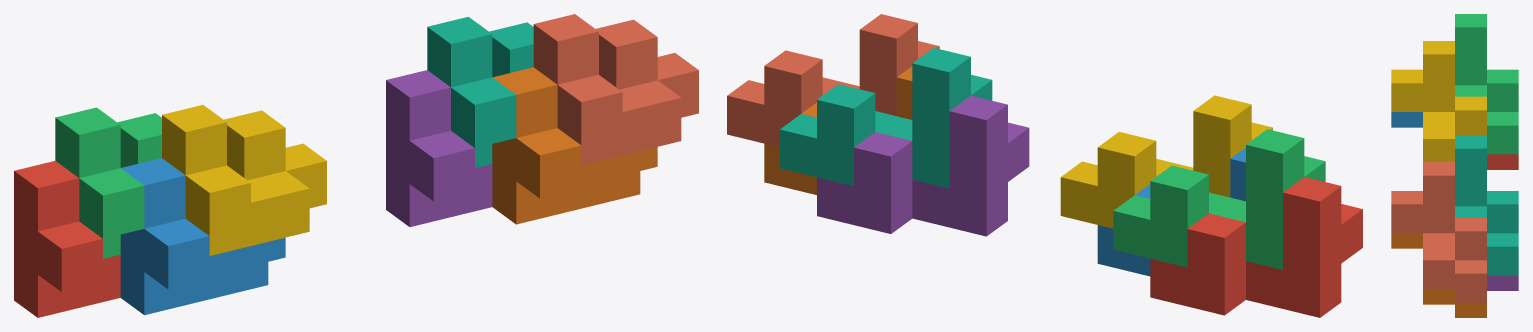
File: tiling.obj
3 renders of one model, left to right at view 1: azimuth 30°, elevation 25°; view 2: azimuth 150°, elevation 25°; view 3: azimuth 270°, elevation 25°, orthographic. The views are drawn at different scales.
Visible parts, largest first — view 1: copy_1_domain_8, copy_1_domain_4, copy_1_domain_2, copy_1_domain_6, copy_1_domain_1, copy_1_domain_5, copy_1_domain_3, copy_1_domain_7; view 2: copy_1_domain_5, copy_1_domain_1, copy_1_domain_7, copy_1_domain_3, copy_1_domain_4, copy_1_domain_8, copy_1_domain_6, copy_1_domain_2; view 3: copy_1_domain_8, copy_1_domain_4, copy_1_domain_3, copy_1_domain_7, copy_1_domain_6, copy_1_domain_1, copy_1_domain_2, copy_1_domain_5.
Boxes of the visible parts, left/top/right/bottom form: copy_1_domain_8: left=533, top=14, right=698, bottom=165; copy_1_domain_4: left=162, top=105, right=326, bottom=255; copy_1_domain_2: left=120, top=158, right=285, bottom=315; copy_1_domain_6: left=492, top=67, right=657, bottom=224; copy_1_domain_1: left=14, top=161, right=120, bottom=317; copy_1_domain_5: left=386, top=70, right=492, bottom=226; copy_1_domain_3: left=55, top=107, right=161, bottom=258; copy_1_domain_7: left=427, top=16, right=533, bottom=167; copy_1_domain_5: left=817, top=95, right=1029, bottom=236; copy_1_domain_1: left=1150, top=177, right=1362, bottom=317; copy_1_domain_7: left=780, top=48, right=992, bottom=188; copy_1_domain_3: left=1113, top=129, right=1325, bottom=269; copy_1_domain_4: left=1060, top=95, right=1272, bottom=228; copy_1_domain_8: left=727, top=14, right=939, bottom=147; copy_1_domain_6: left=764, top=66, right=912, bottom=194; copy_1_domain_2: left=1097, top=147, right=1245, bottom=276; copy_1_domain_8: left=1391, top=162, right=1486, bottom=302; copy_1_domain_4: left=1391, top=41, right=1486, bottom=161; copy_1_domain_3: left=1455, top=14, right=1518, bottom=154; copy_1_domain_7: left=1455, top=135, right=1518, bottom=275; copy_1_domain_6: left=1391, top=233, right=1486, bottom=317; copy_1_domain_1: left=1487, top=154, right=1518, bottom=169; copy_1_domain_2: left=1391, top=112, right=1422, bottom=127; copy_1_domain_5: left=1487, top=275, right=1518, bottom=290.
Size of the model in its own units: 16 by 4 by 4.
